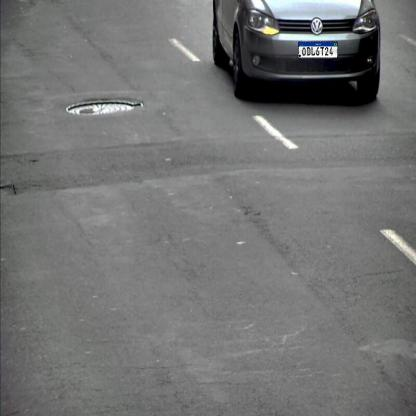PlacaM: (298, 42, 338, 58)
